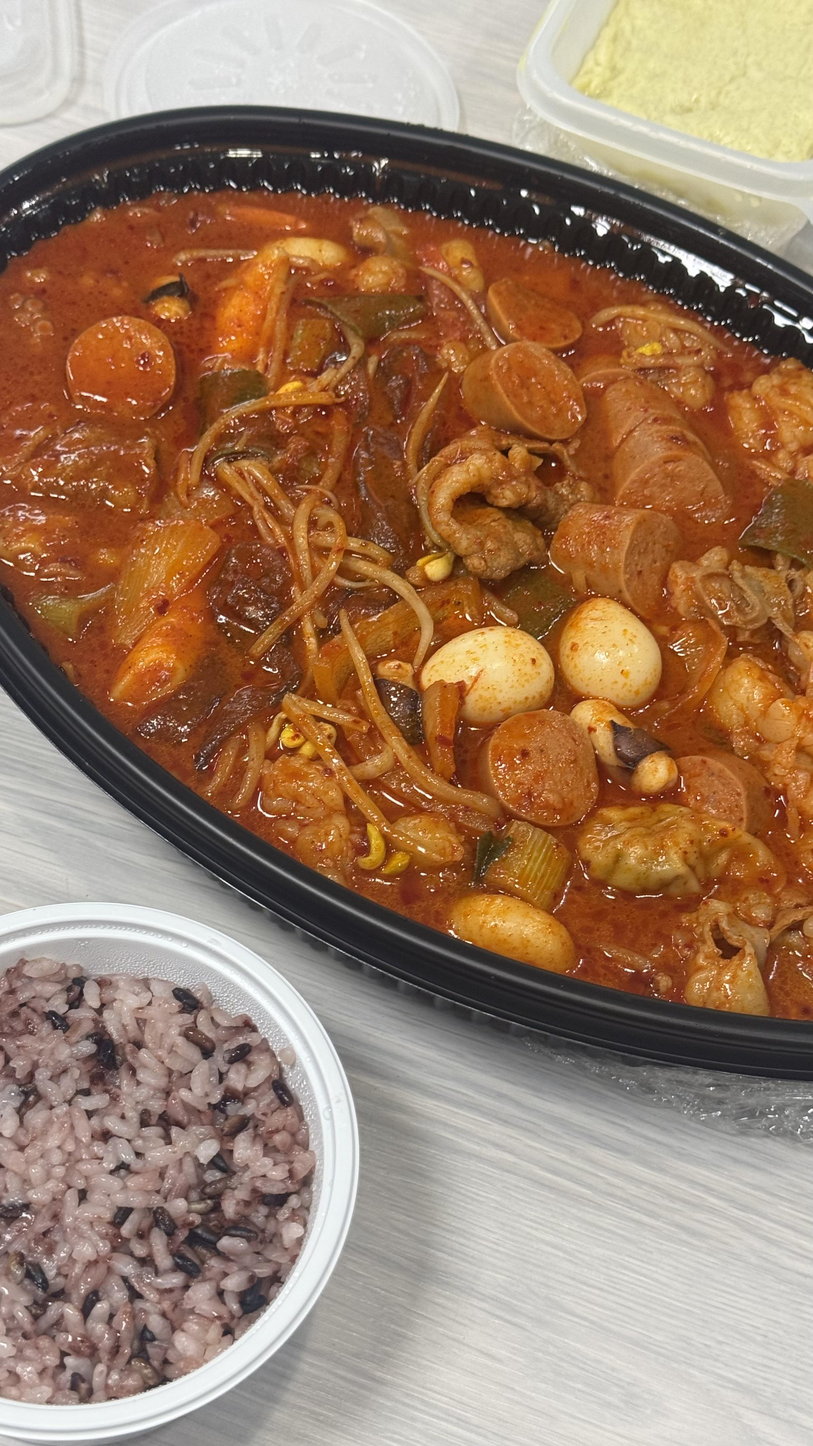Lunch Box: (0, 108, 813, 1078), (0, 904, 359, 1446), (516, 0, 813, 249), (104, 0, 459, 130)
